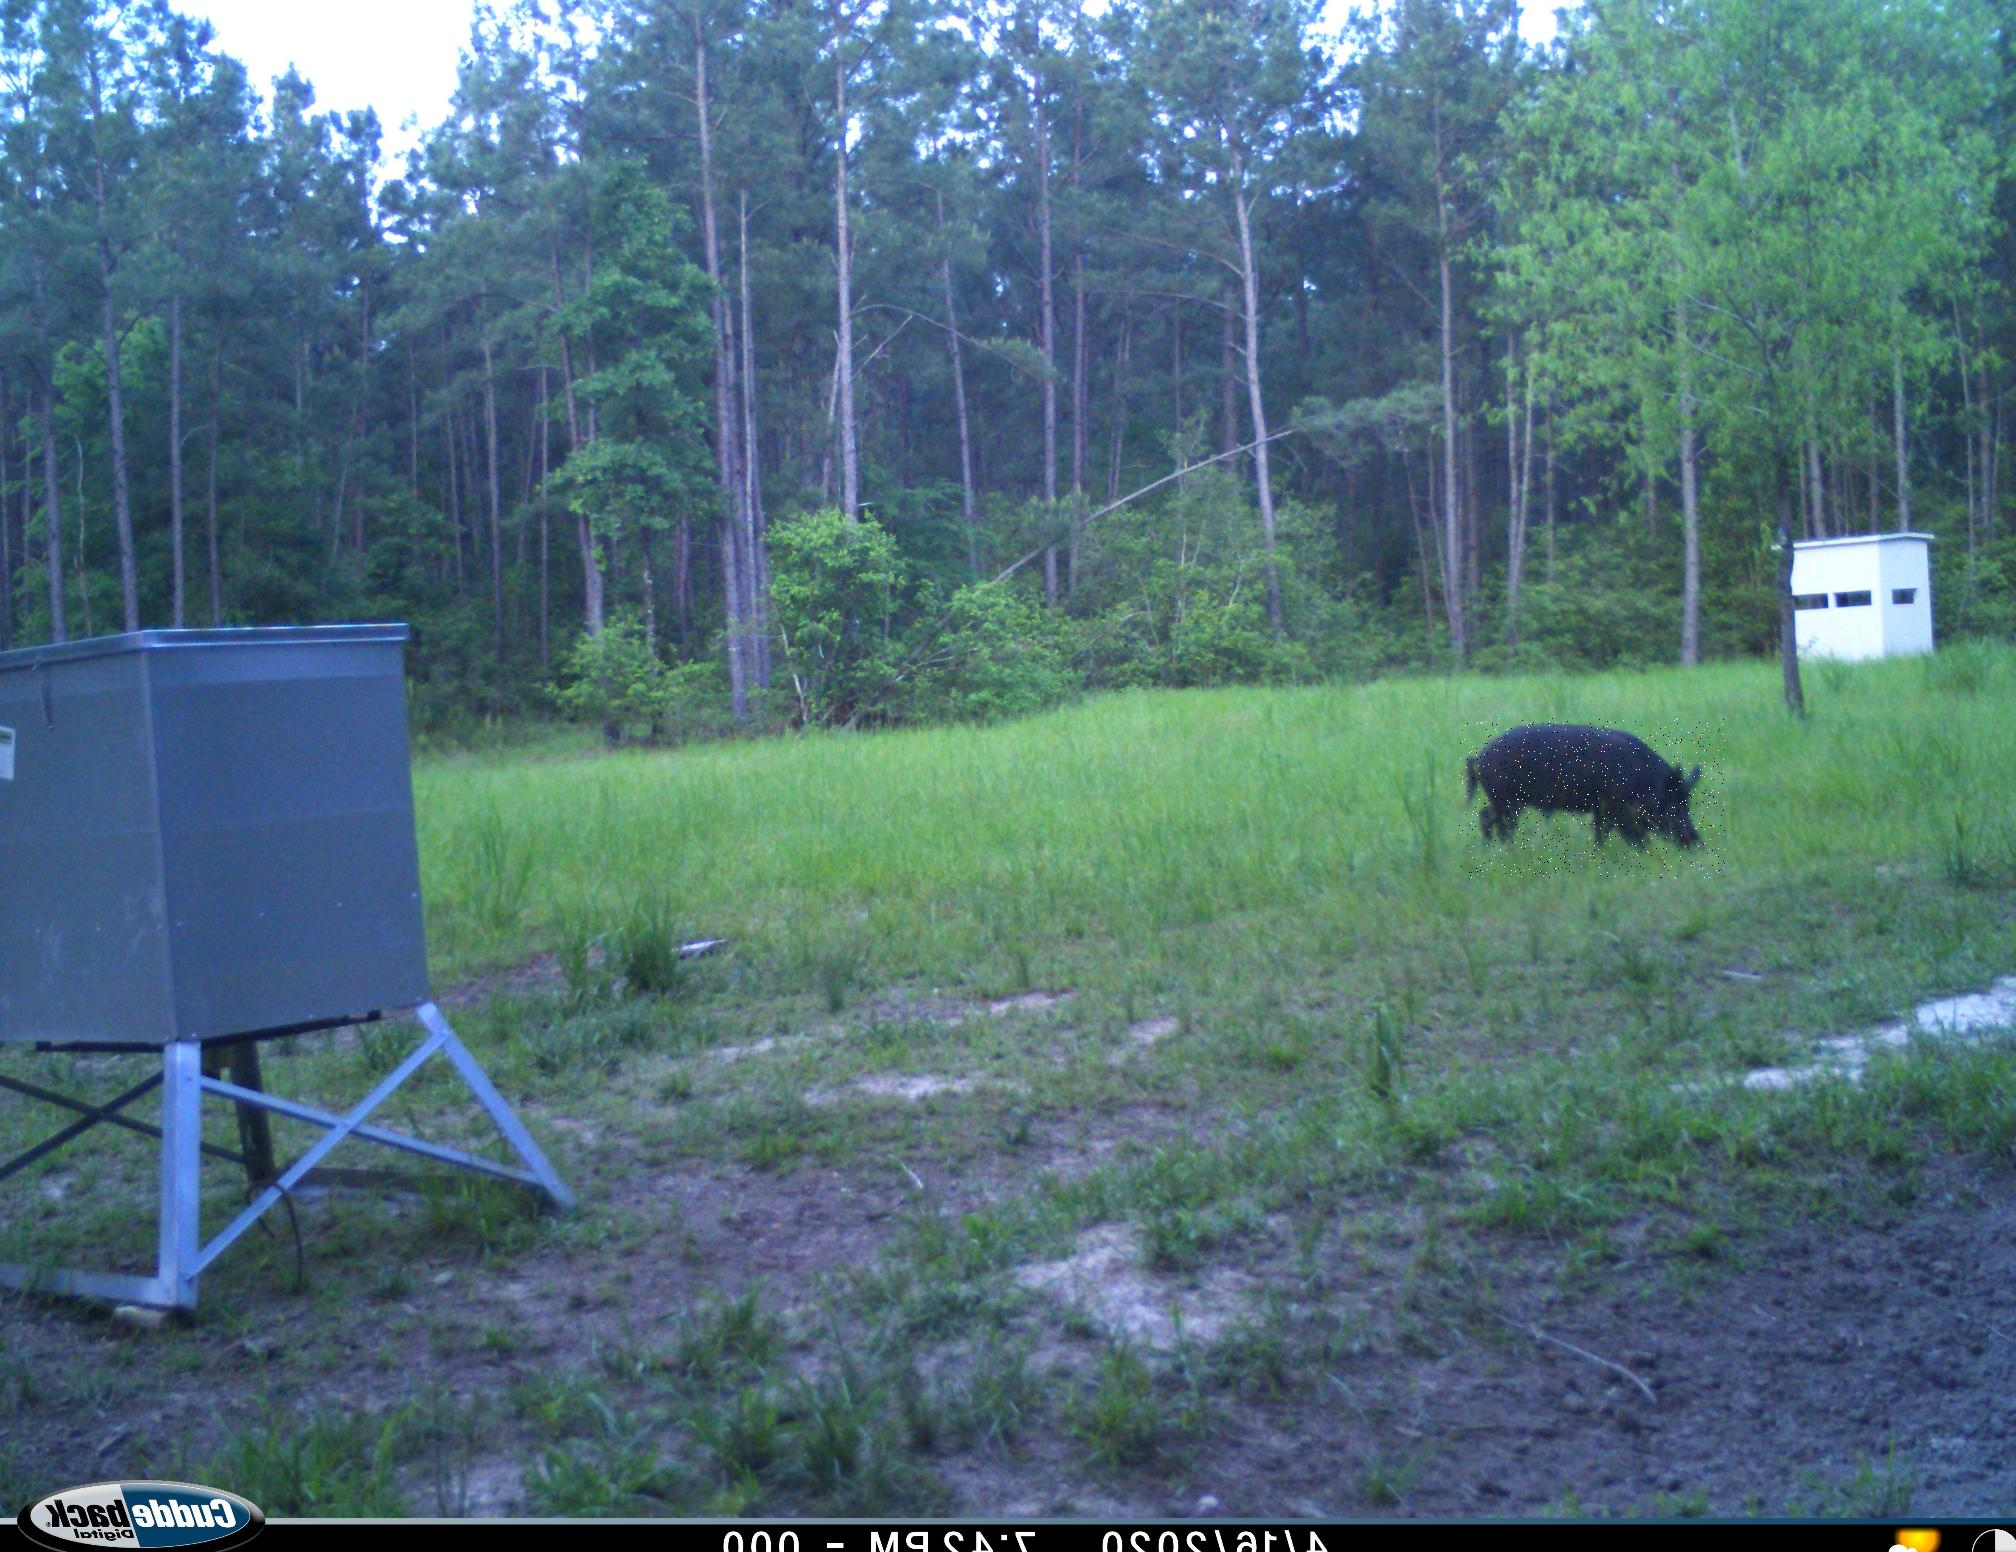Hog: (1459, 719, 1724, 877)
